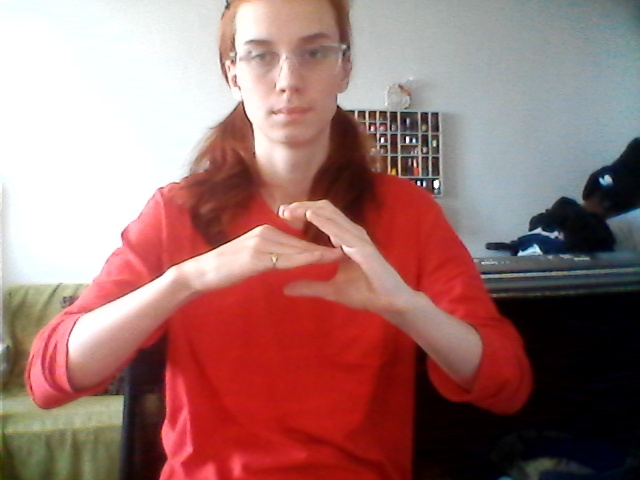e: (199, 194, 408, 325)
